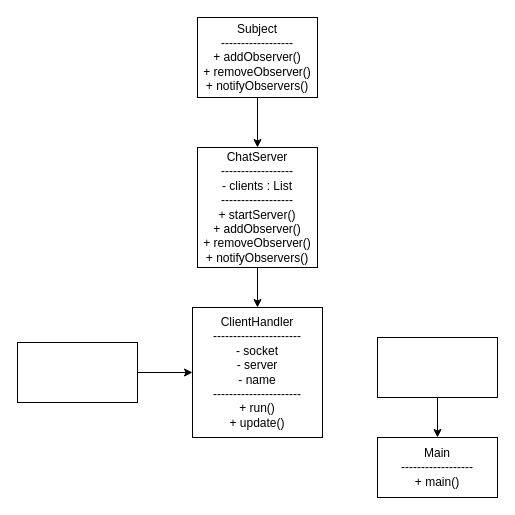
This 515x515 diagram has some shape labels left out. Each missing label, with the centre of its shape:
"ChatClient ------------------ + startClient()" belongs at pixel 437 367.
"Observer ------------------ + update()" belongs at pixel 77 372.
